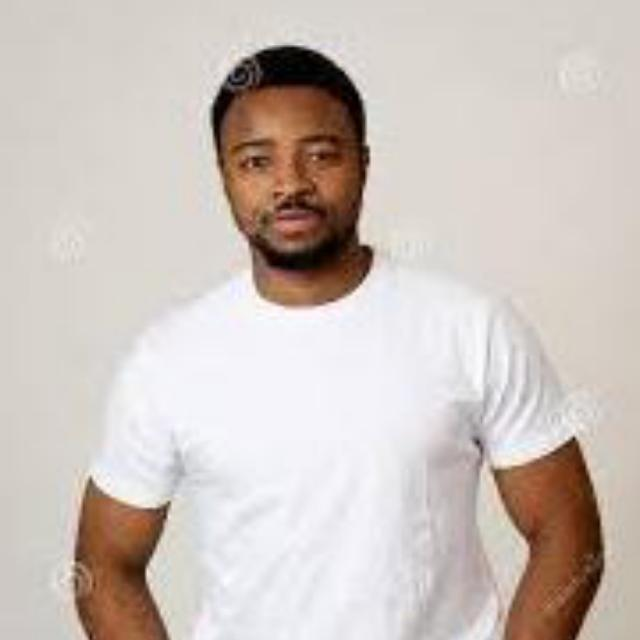Natural: (190, 74, 362, 283)
